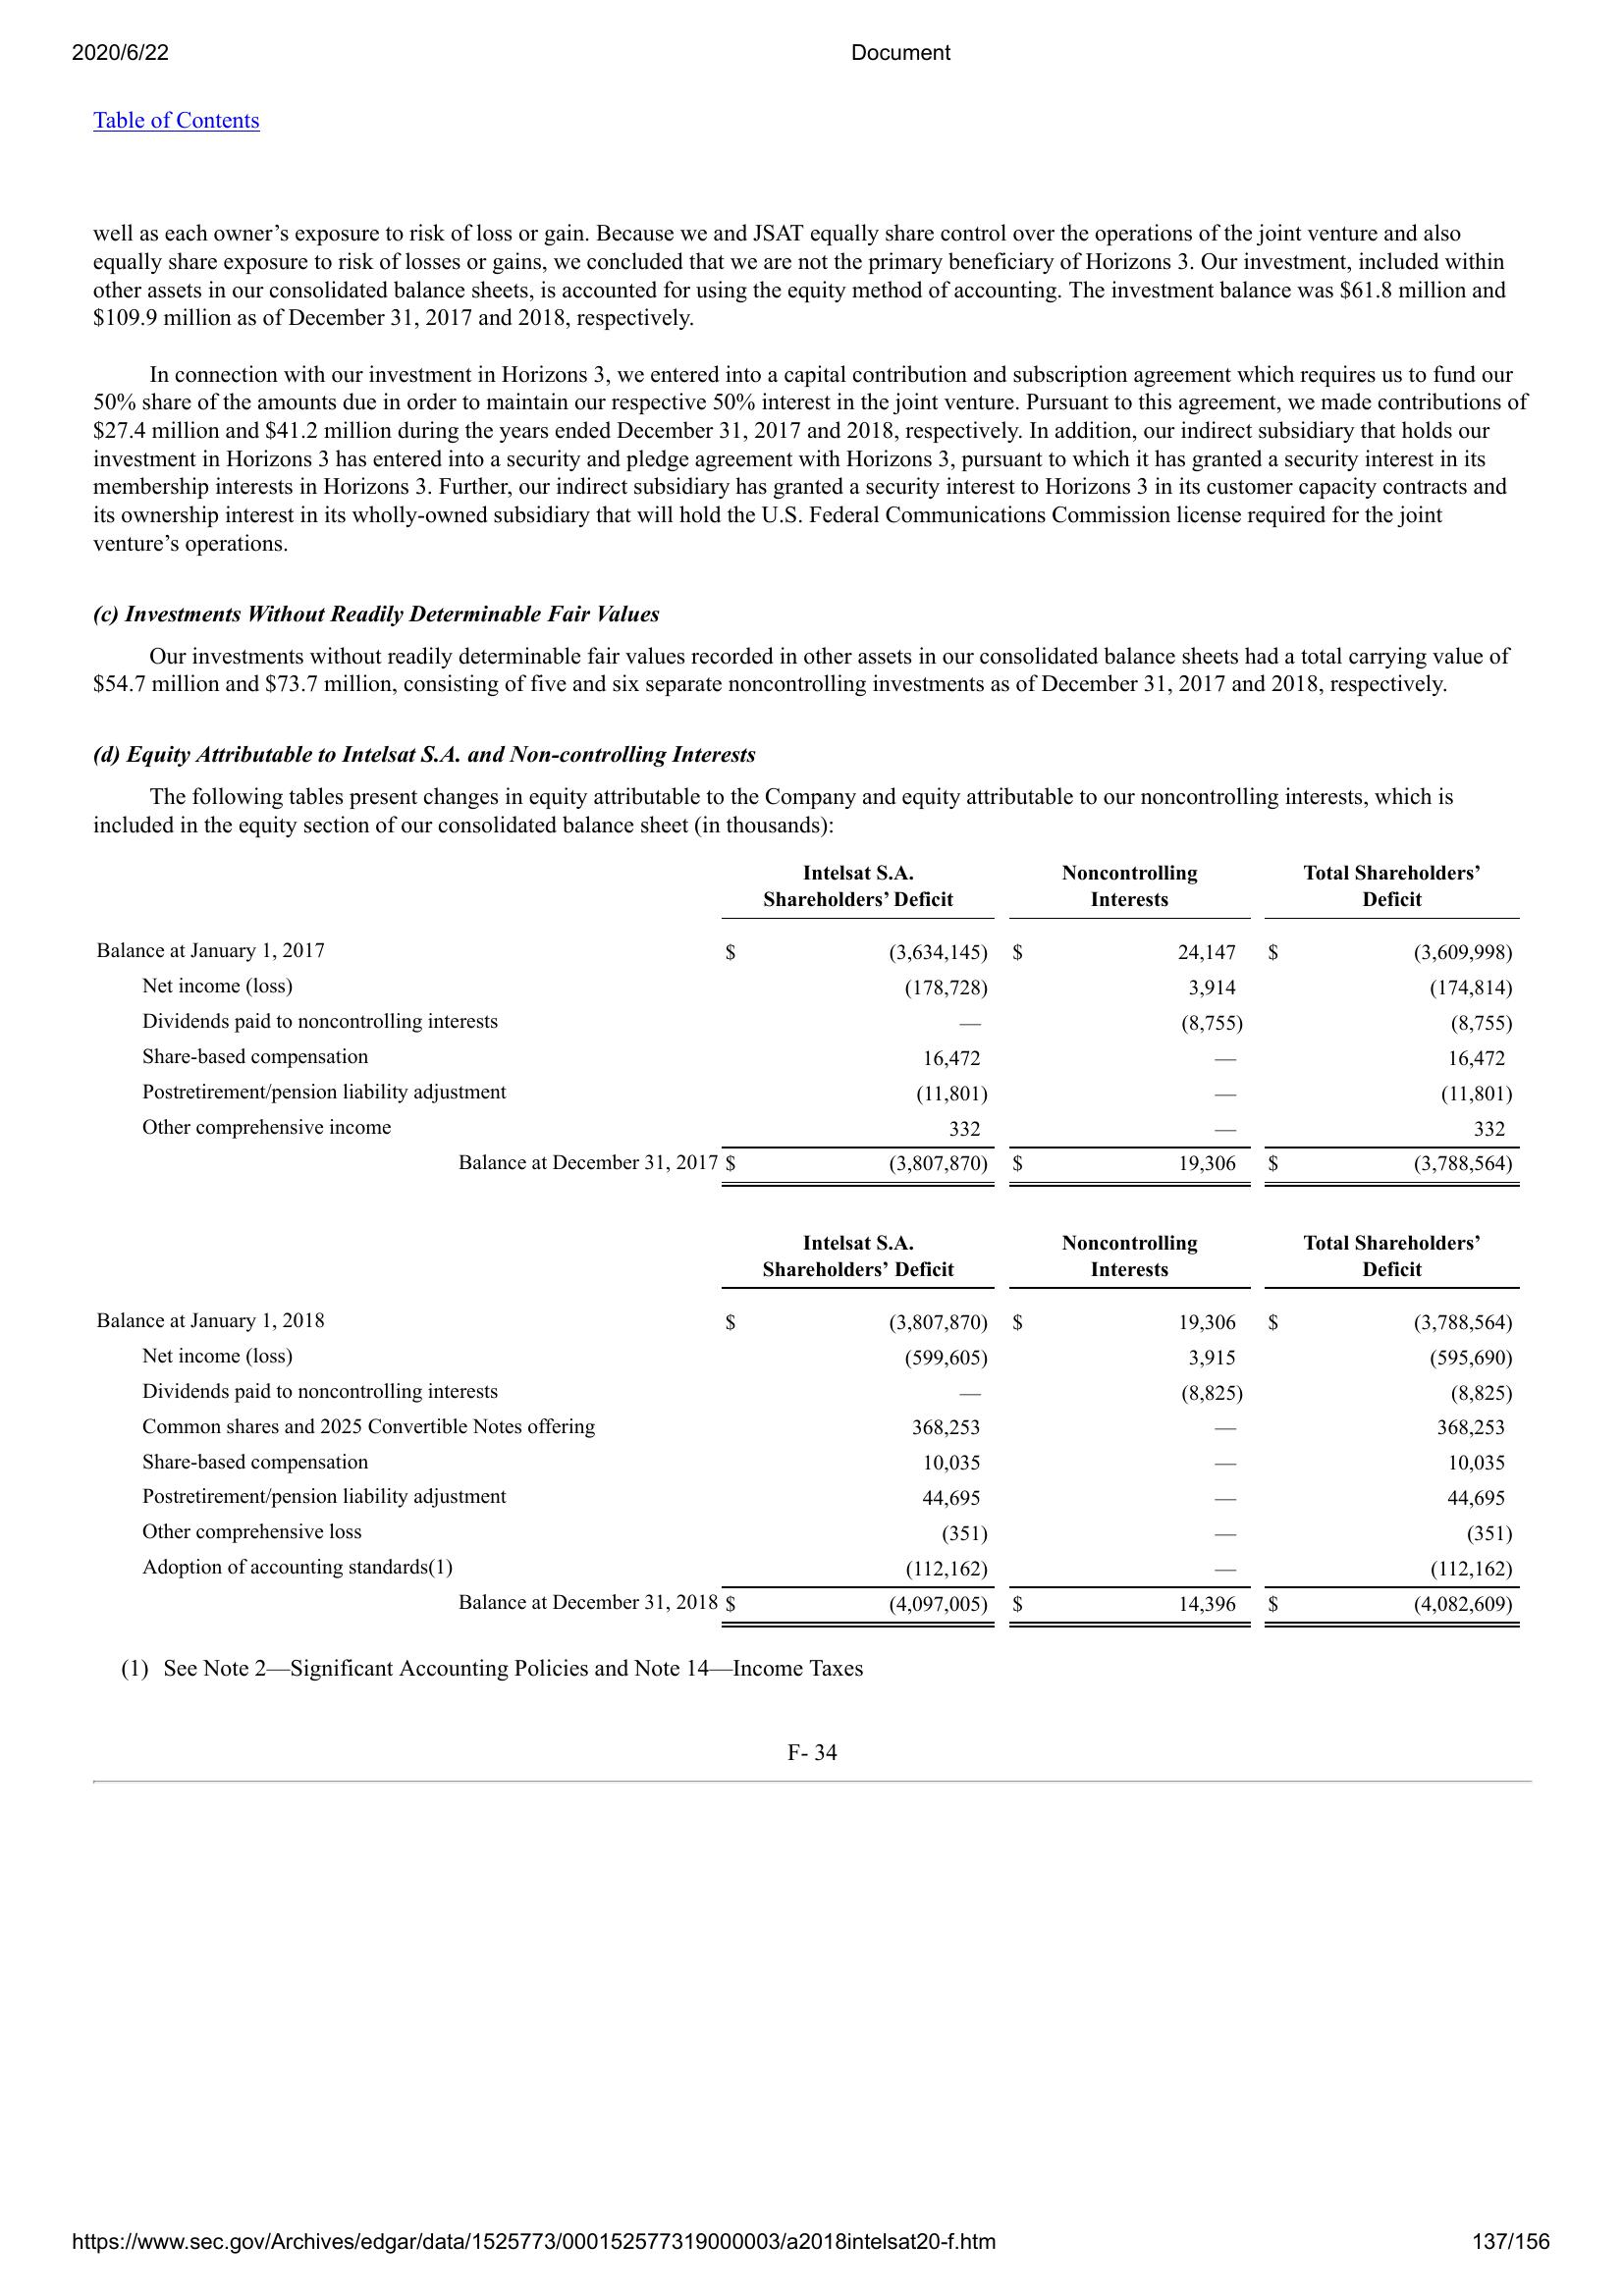table: (84, 1223, 1539, 1631), (97, 855, 1528, 1197)
